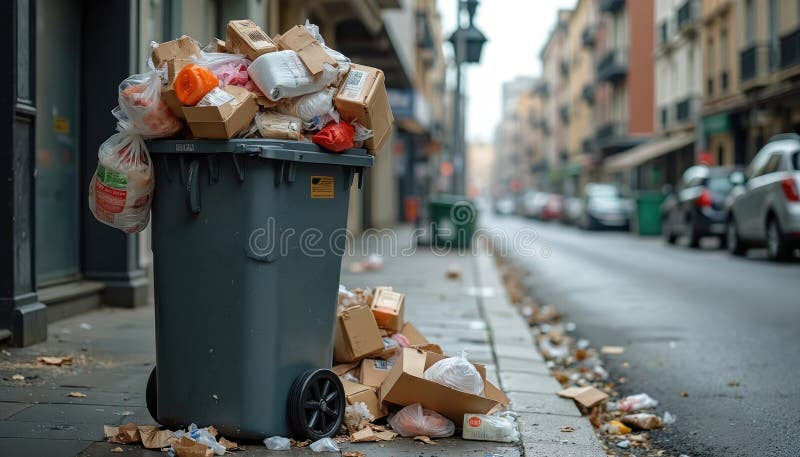full: (723, 134, 800, 263)
